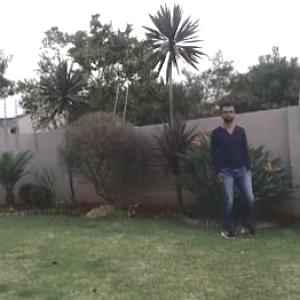follow: (210, 101, 250, 237)
